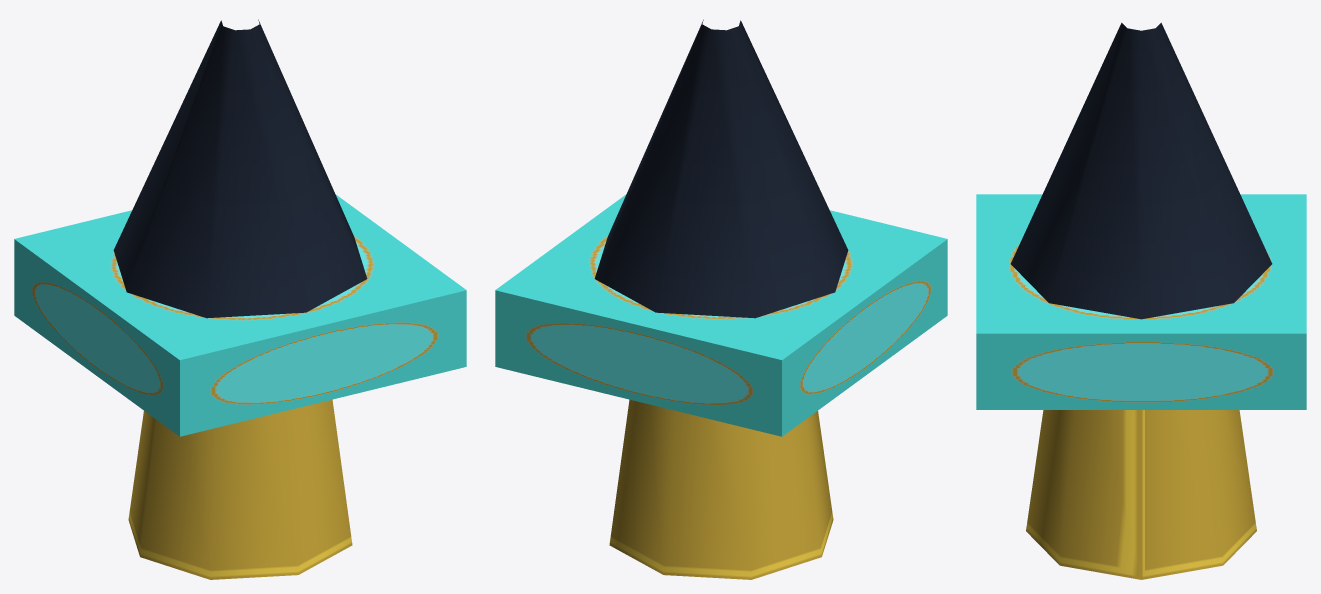
Rendered from ITEM_BAZAAR_SEAL.glb.
3 views of the same model, side by side, from view 1: azimuth 30°, elevation 25°; view 2: azimuth 150°, elevation 25°; view 3: azimuth 270°, elevation 25° (orthographic).
Parts seen in each view (by area): view 1: ITEM_BAZAAR_SEAL; view 2: ITEM_BAZAAR_SEAL; view 3: ITEM_BAZAAR_SEAL.
Part boxes in pixels (x1,y1,x2,y2): ITEM_BAZAAR_SEAL: [14, 19, 466, 579]; ITEM_BAZAAR_SEAL: [495, 19, 947, 579]; ITEM_BAZAAR_SEAL: [976, 22, 1306, 579].
Size of the model in its own units: 0.2 by 0.34 by 0.2.
1 material, 1 textured.
